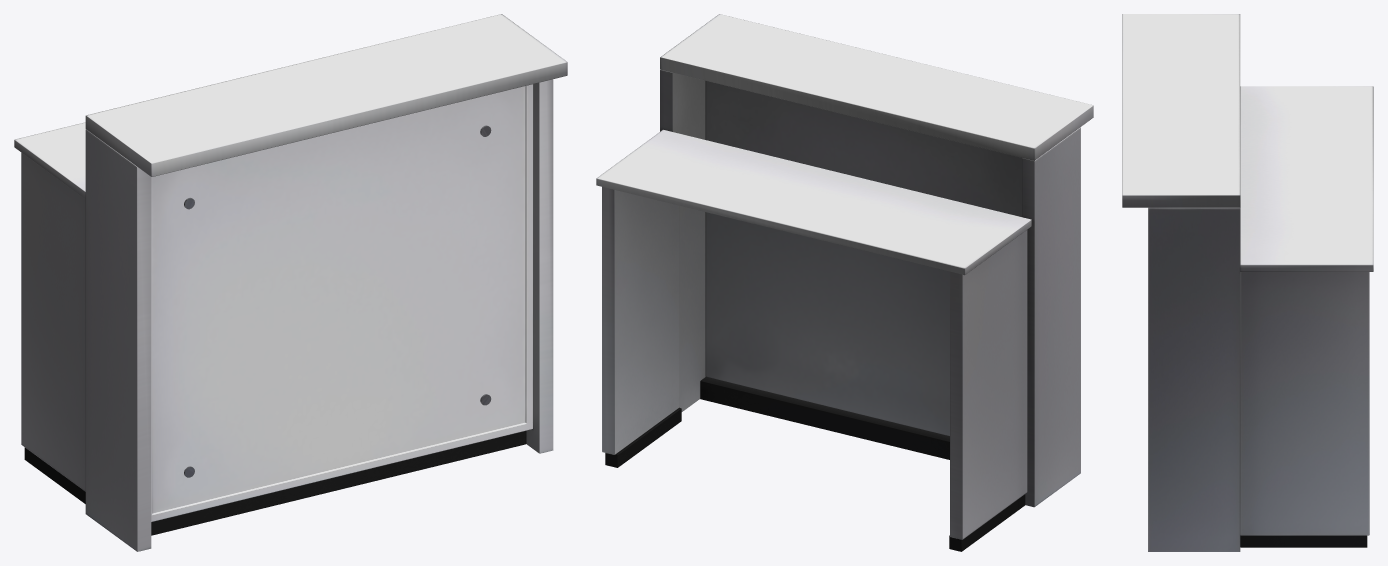
File: calvi_white_wood.glb
The picture shows the model from 3 angles, left to right: view 1: azimuth 30°, elevation 25°; view 2: azimuth 150°, elevation 25°; view 3: azimuth 270°, elevation 25°; orthographic projection. The views are drawn at different scales.
Visible parts, largest first — view 1: calvi-white; view 2: calvi-white; view 3: calvi-white.
Boxes of the visible parts, <box> form: calvi-white: <box>14,14,567,551</box>; calvi-white: <box>596,14,1093,551</box>; calvi-white: <box>1122,14,1373,551</box>.
Bounding box in the file's own units: 1.2 × 1.1 × 0.701.
1 material, 1 textured.
